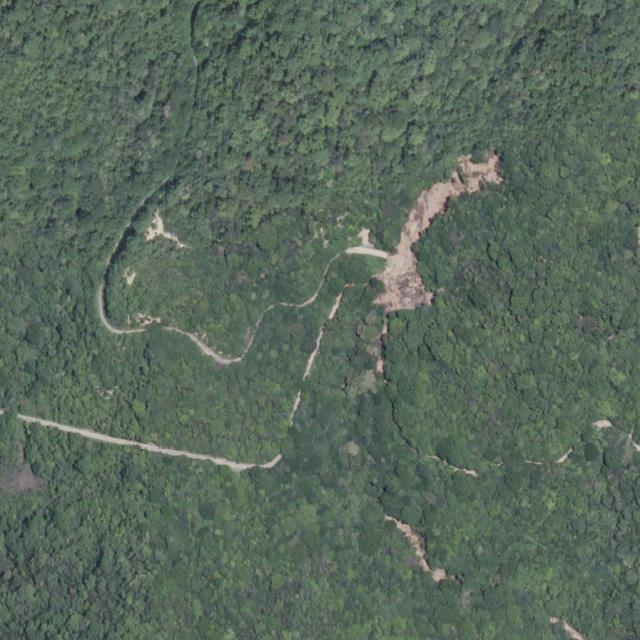landslide: (375, 151, 503, 312)
